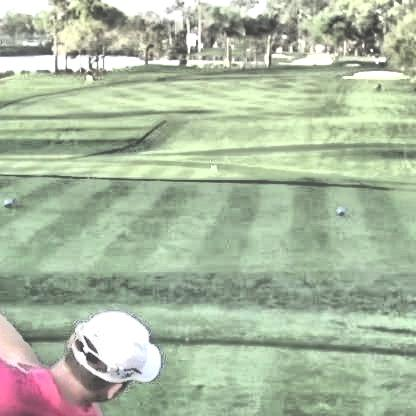golfball: (206, 162, 215, 170)
